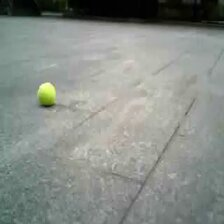tennis: (37, 82, 56, 104)
